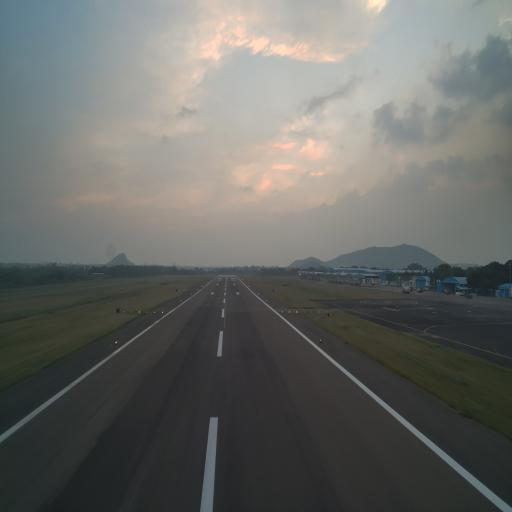on: (318, 336, 324, 344), (114, 339, 118, 347)
